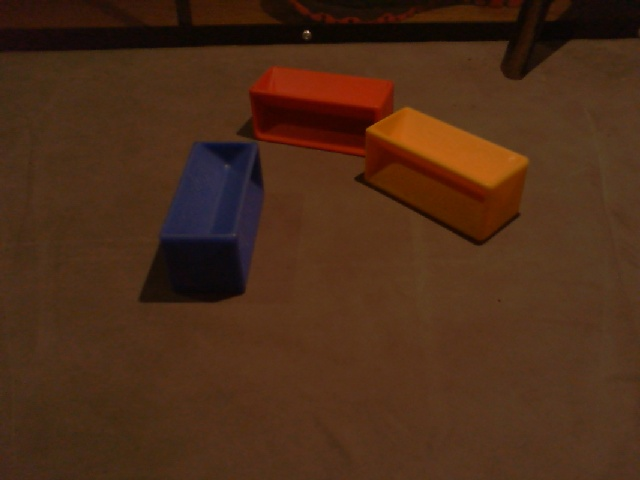BlueSample: (155, 138, 266, 296)
RedSample: (247, 60, 397, 158)
YellowSample: (362, 106, 527, 244)
